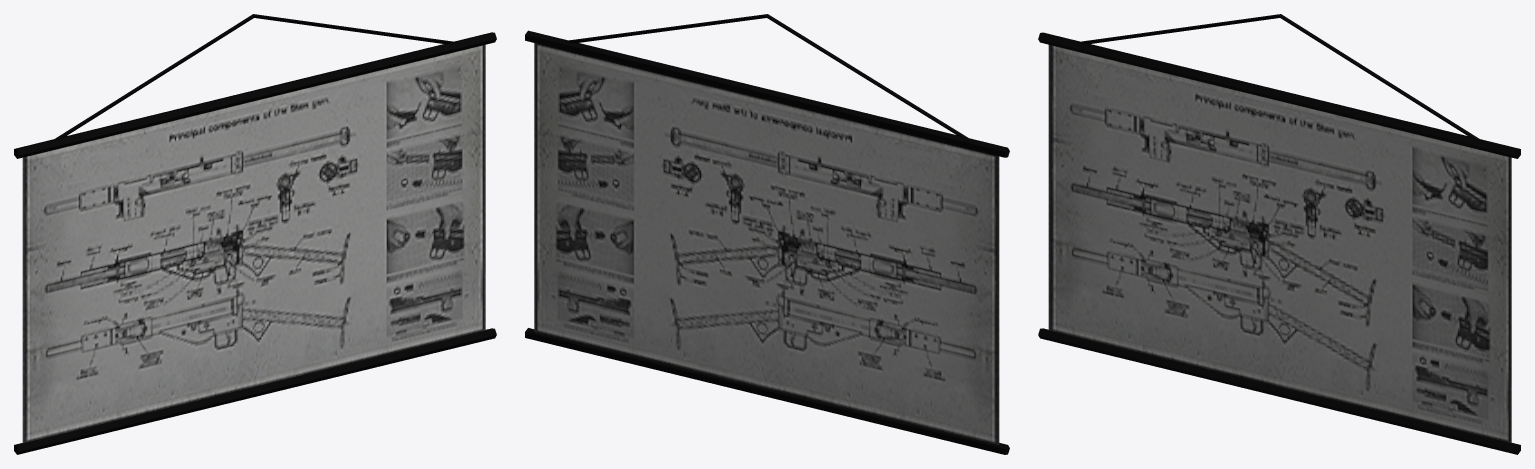
Rendered from Training_Poster2.fbx.
The picture shows the model from 3 angles, left to right: view 1: azimuth 30°, elevation 25°; view 2: azimuth 150°, elevation 25°; view 3: azimuth 330°, elevation 25°; orthographic projection.
Parts seen in each view (by area): view 1: a1plakat04, Cylinder01, Cylinder02, Loft01; view 2: a1plakat04, Cylinder01, Cylinder02, Loft01; view 3: a1plakat04, Cylinder01, Cylinder02, Loft01.
Part boxes in pixels (x1,y1,x2,y2): a1plakat04: (22,44,485,443); Cylinder01: (14,32,496,158); Cylinder02: (14,328,496,454); Loft01: (53,14,456,140); a1plakat04: (534,43,999,444); Cylinder01: (525,30,1009,157); Cylinder02: (525,328,1009,454); Loft01: (565,14,968,140); a1plakat04: (1048,45,1511,443); Cylinder01: (1038,32,1520,158); Cylinder02: (1038,328,1520,454); Loft01: (1078,14,1480,140).
Bounding box in the file's own units: 198 × 151 × 3.62.
